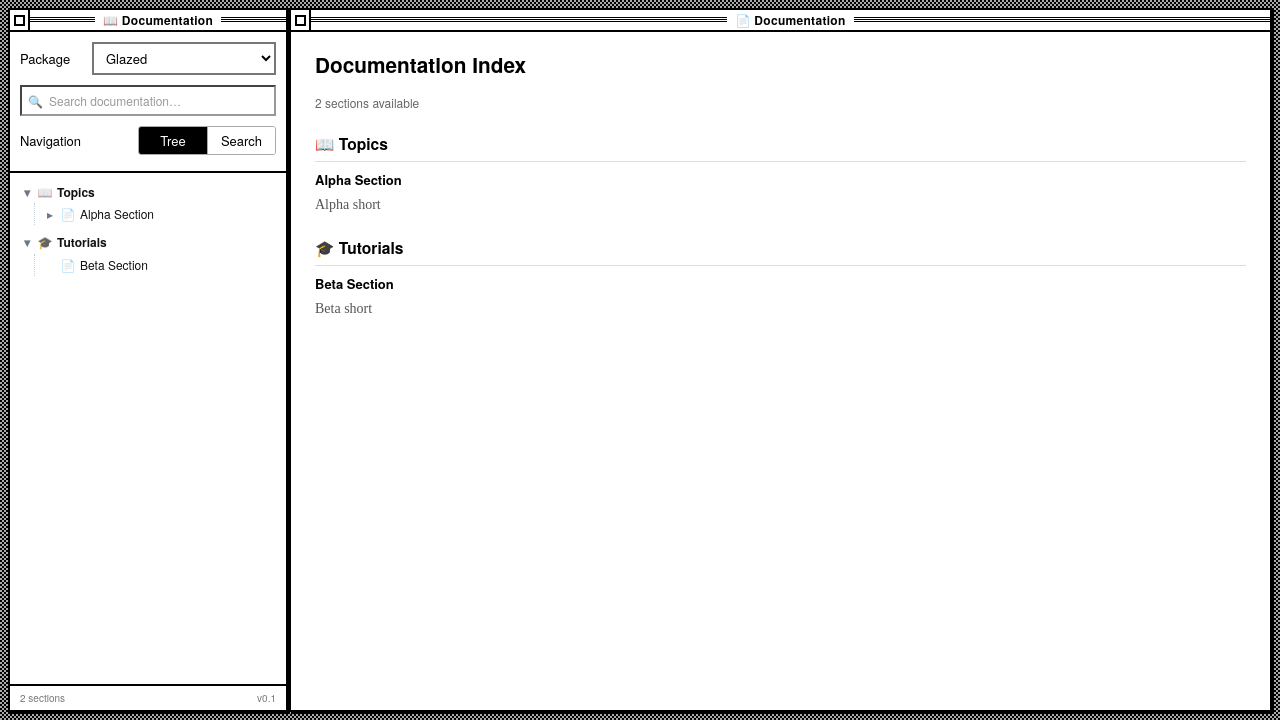
it: App tree navigation › navigates to the correct section URL when a section is selected from the tree
This screenshot has width=1280, height=720.
Click the list item "▸ 📄 Alpha Section" at coordinates (160, 214), box [39, 203, 280, 225]
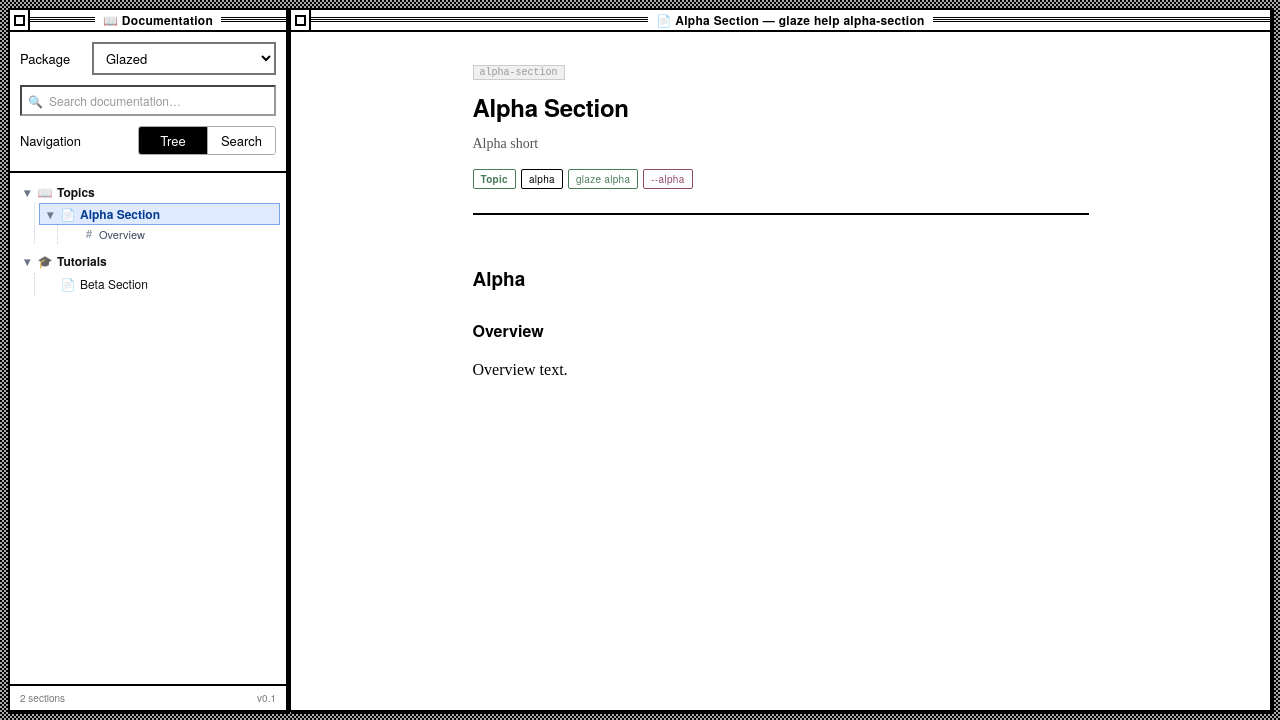
Expected: the heading "Alpha Section" is shown, [472, 90, 629, 124]
